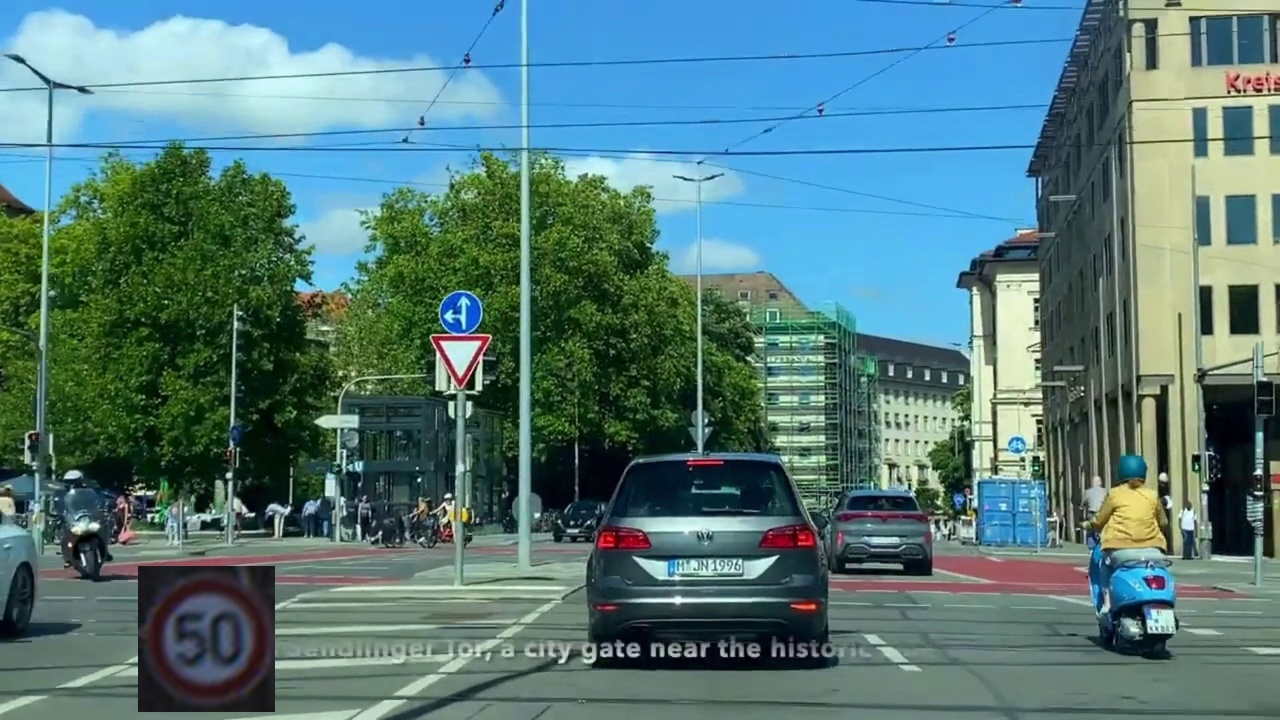Speed 50: (138, 566, 275, 712)
